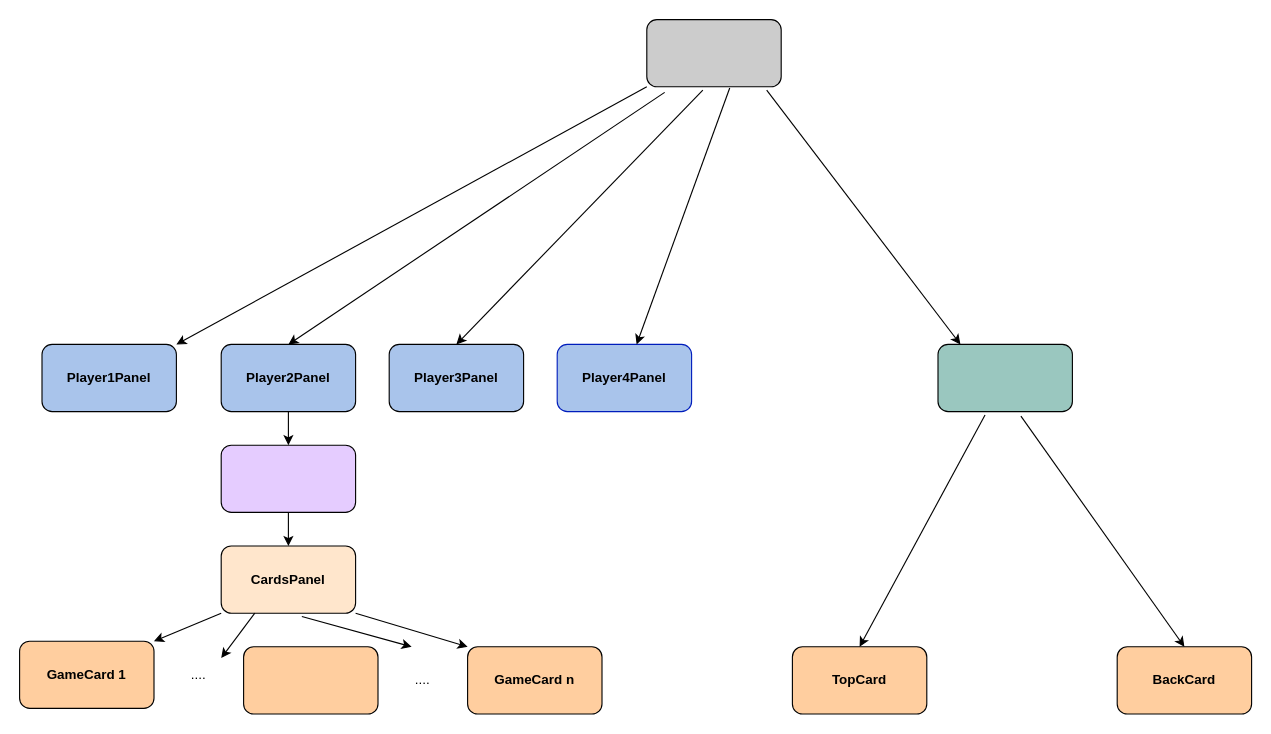
This 1271x734 diagram has some shape labels left out. Here are the shapes that lost their labels. From the top down, the centre of each, then its label:
(x=713, y=52): GameWindow
(x=1004, y=377): PilePanel
(x=288, y=478): MainPanel
(x=310, y=680): GameCard i
